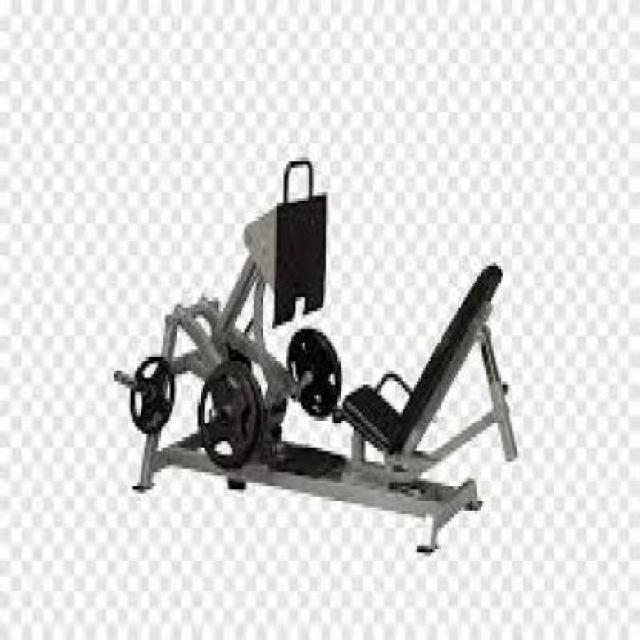leg press: (97, 135, 548, 583)
